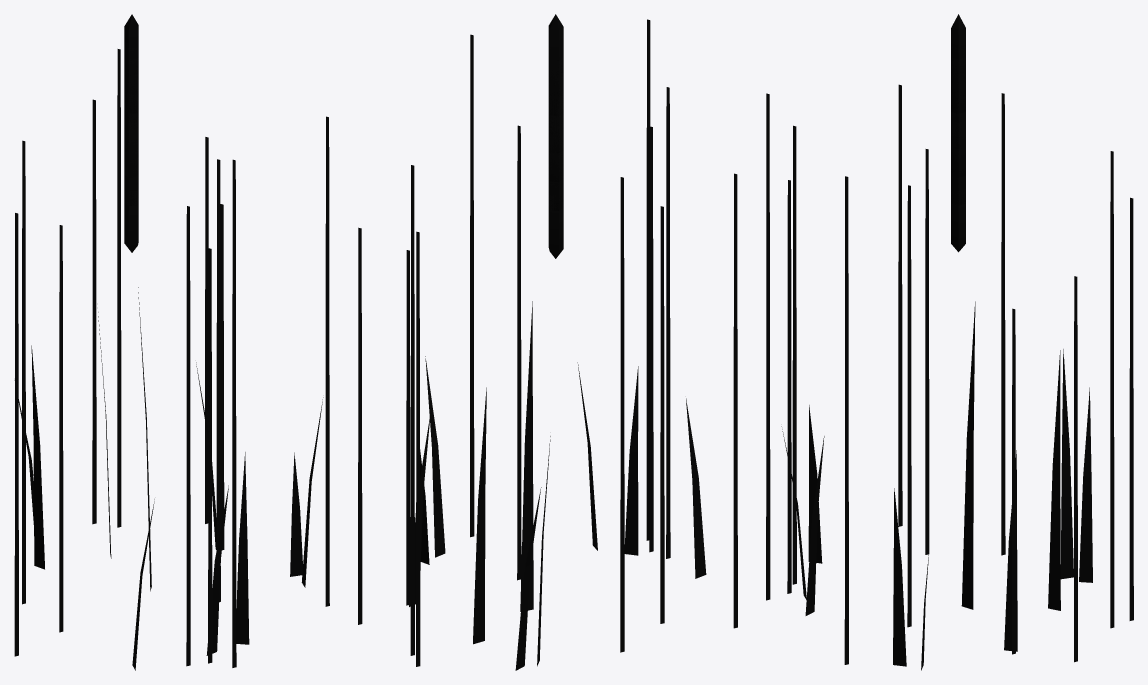
The model's file is SM_cattails.fbx.
3 views of the same model, side by side, from view 1: azimuth 30°, elevation 25°; view 2: azimuth 150°, elevation 25°; view 3: azimuth 270°, elevation 25° (orthographic). The views are drawn at different scales.
Visible parts, largest first — view 1: cattails; view 2: cattails; view 3: cattails.
Boxes of the visible parts, x1,y1,x2,y2 form: cattails: (14, 14, 329, 670); cattails: (358, 14, 737, 670); cattails: (766, 14, 1133, 670).
Bounding box in the file's own units: 0.9934 × 1.81 × 1.03.
